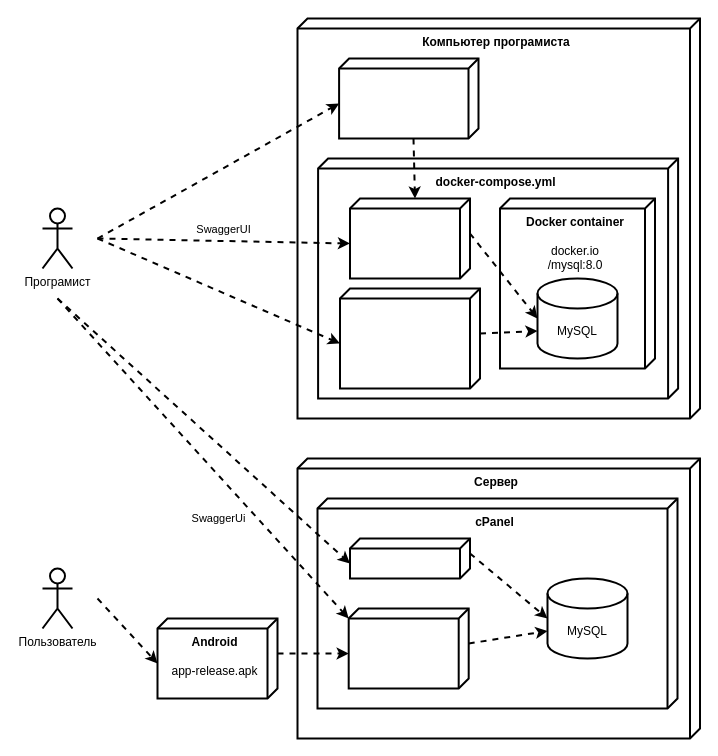
Image size: 718x756. Some labels were removed from this diagram. Here are the shapes that lost their labels. From the top down, the centre of each, then its label:
pixel 408 98: Android Emulator app-debug.apk
pixel 409 238: NodeJS nest start --watch
pixel 409 338: Docker container docker.io /phpmyadmin /phpmyadmin:latest
pixel 409 558: phpMyAdmin
pixel 408 648: NodeJS node dist/index.js
